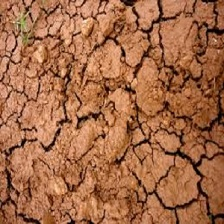clay_soil: (5, 28, 215, 212)
